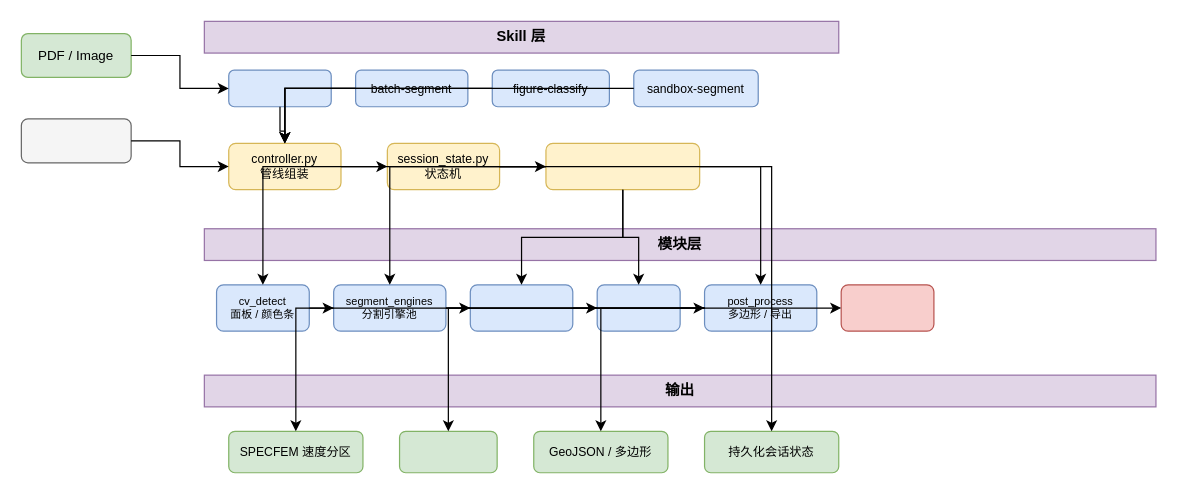
The diagram is 1177 pixels wide and 494 high, and some of its shapes have lost their labels. The centre of each missing label's shape, as x and y in pixels:
"3d_schematic (实验)" goes at point 887,307.
"editor napari" goes at point 638,307.
"geo-segment" goes at point 279,88.
"overlay 图" goes at point 447,451.
"pipeline_interfaces.py 双管线接口" goes at point 622,166.
"visual_audit 质量审查" goes at point 521,307.
"用户 / CLI" goes at point 75,140.
